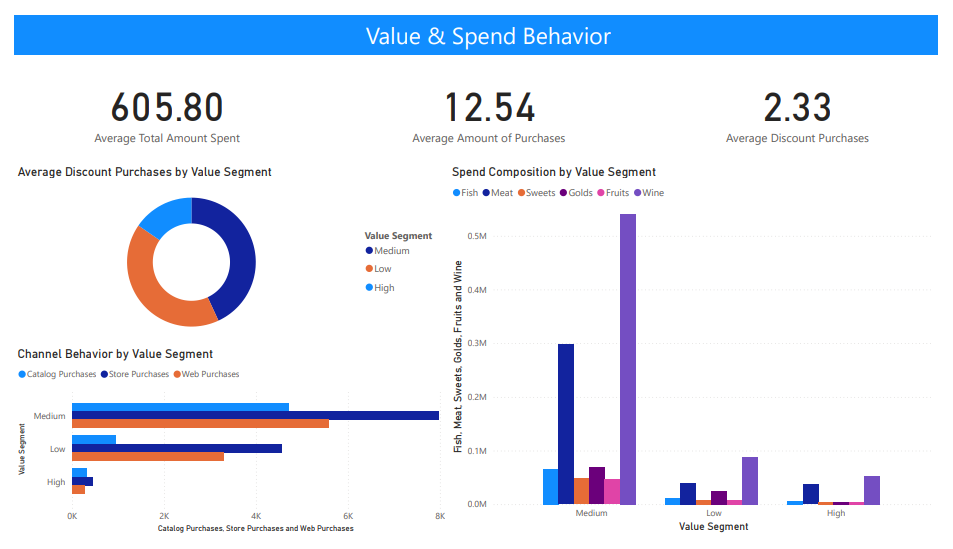

The page's visual inventory and layout, read from the dashboard file:
{"tool":"powerbi","page":{"name":"Page 3","canvas":[1280,720],"ordinal":2},"visuals":[{"type":"textbox","box":[0,0,1280,54.9],"z":0},{"type":"card","fields":{"Values":["marketing_campaign.Avg Total Amount Spent"]},"box":[0,54.9,424.1,151.5],"z":1000},{"type":"card","fields":{"Values":["marketing_campaign.Avg Purchases"]},"box":[424.1,54.9,467.7,151.5],"z":2000},{"type":"donutChart","title":"Average Discount Purchases by Value Segment","fields":{"Category":["marketing_campaign.ValueSeg"],"Y":["marketing_campaign.Avg Discount Purchases"]},"box":[0,206.4,602.1,251.8],"z":3000},{"type":"clusteredColumnChart","title":"Spend Composition by Value Segment","fields":{"Category":["marketing_campaign.ValueSeg"],"Y":["Sum(marketing_campaign.fish_purchase_amount_usd)","Sum(marketing_campaign.meat_purchase_amount_usd)","Sum(marketing_campaign.sweets_purchase_amount_usd)","Sum(marketing_campaign.golds_purchase_amount_usd)","Sum(marketing_campaign.fruit_purchase_amount_usd)","Sum(marketing_campaign.wine_purchase_amount_usd)"]},"box":[602.1,206.4,677.9,513.1],"z":4000},{"type":"clusteredBarChart","title":"Channel Behavior by Value Segment","fields":{"Category":["marketing_campaign.ValueSeg"],"Y":["Sum(marketing_campaign.catalog_purchases)","Sum(marketing_campaign.store_purchases)","Sum(marketing_campaign.web_purchases)"]},"box":[0,458.2,602.1,261.3],"z":5000},{"type":"card","fields":{"Values":["marketing_campaign.Avg Discount Purchases"]},"box":[892,55,388,151],"z":6000}]}

Visuals, with their boxes in screenshot pixels (x1, y1, x2, y2), scaled from the page's 1280x720 canvas onto the 953x549 screenshot:
textbox: l=0, t=0, r=952, b=42
card - marketing_campaign.Avg Total Amount Spent: l=0, t=42, r=316, b=157
card - marketing_campaign.Avg Purchases: l=316, t=42, r=664, b=157
"Average Discount Purchases by Value Segment" donutChart: l=0, t=157, r=448, b=349
"Spend Composition by Value Segment" clusteredColumnChart: l=448, t=157, r=952, b=548
"Channel Behavior by Value Segment" clusteredBarChart: l=0, t=349, r=448, b=548
card - marketing_campaign.Avg Discount Purchases: l=664, t=42, r=952, b=157
